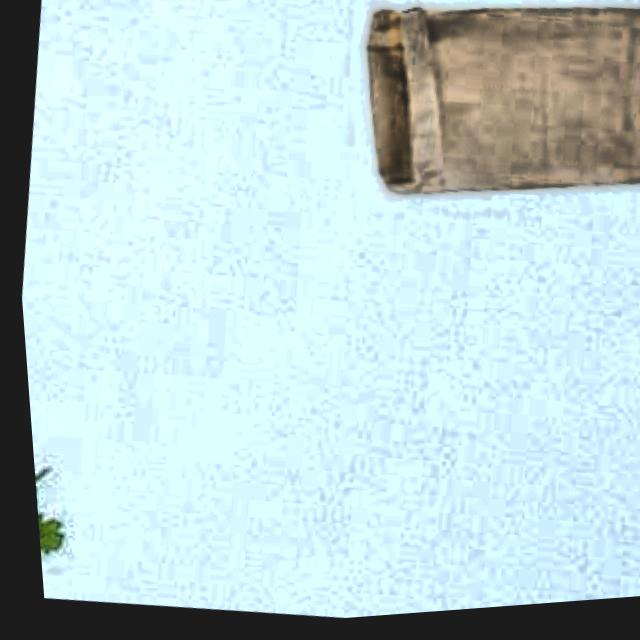Paper-bag: (322, 0, 640, 275)
